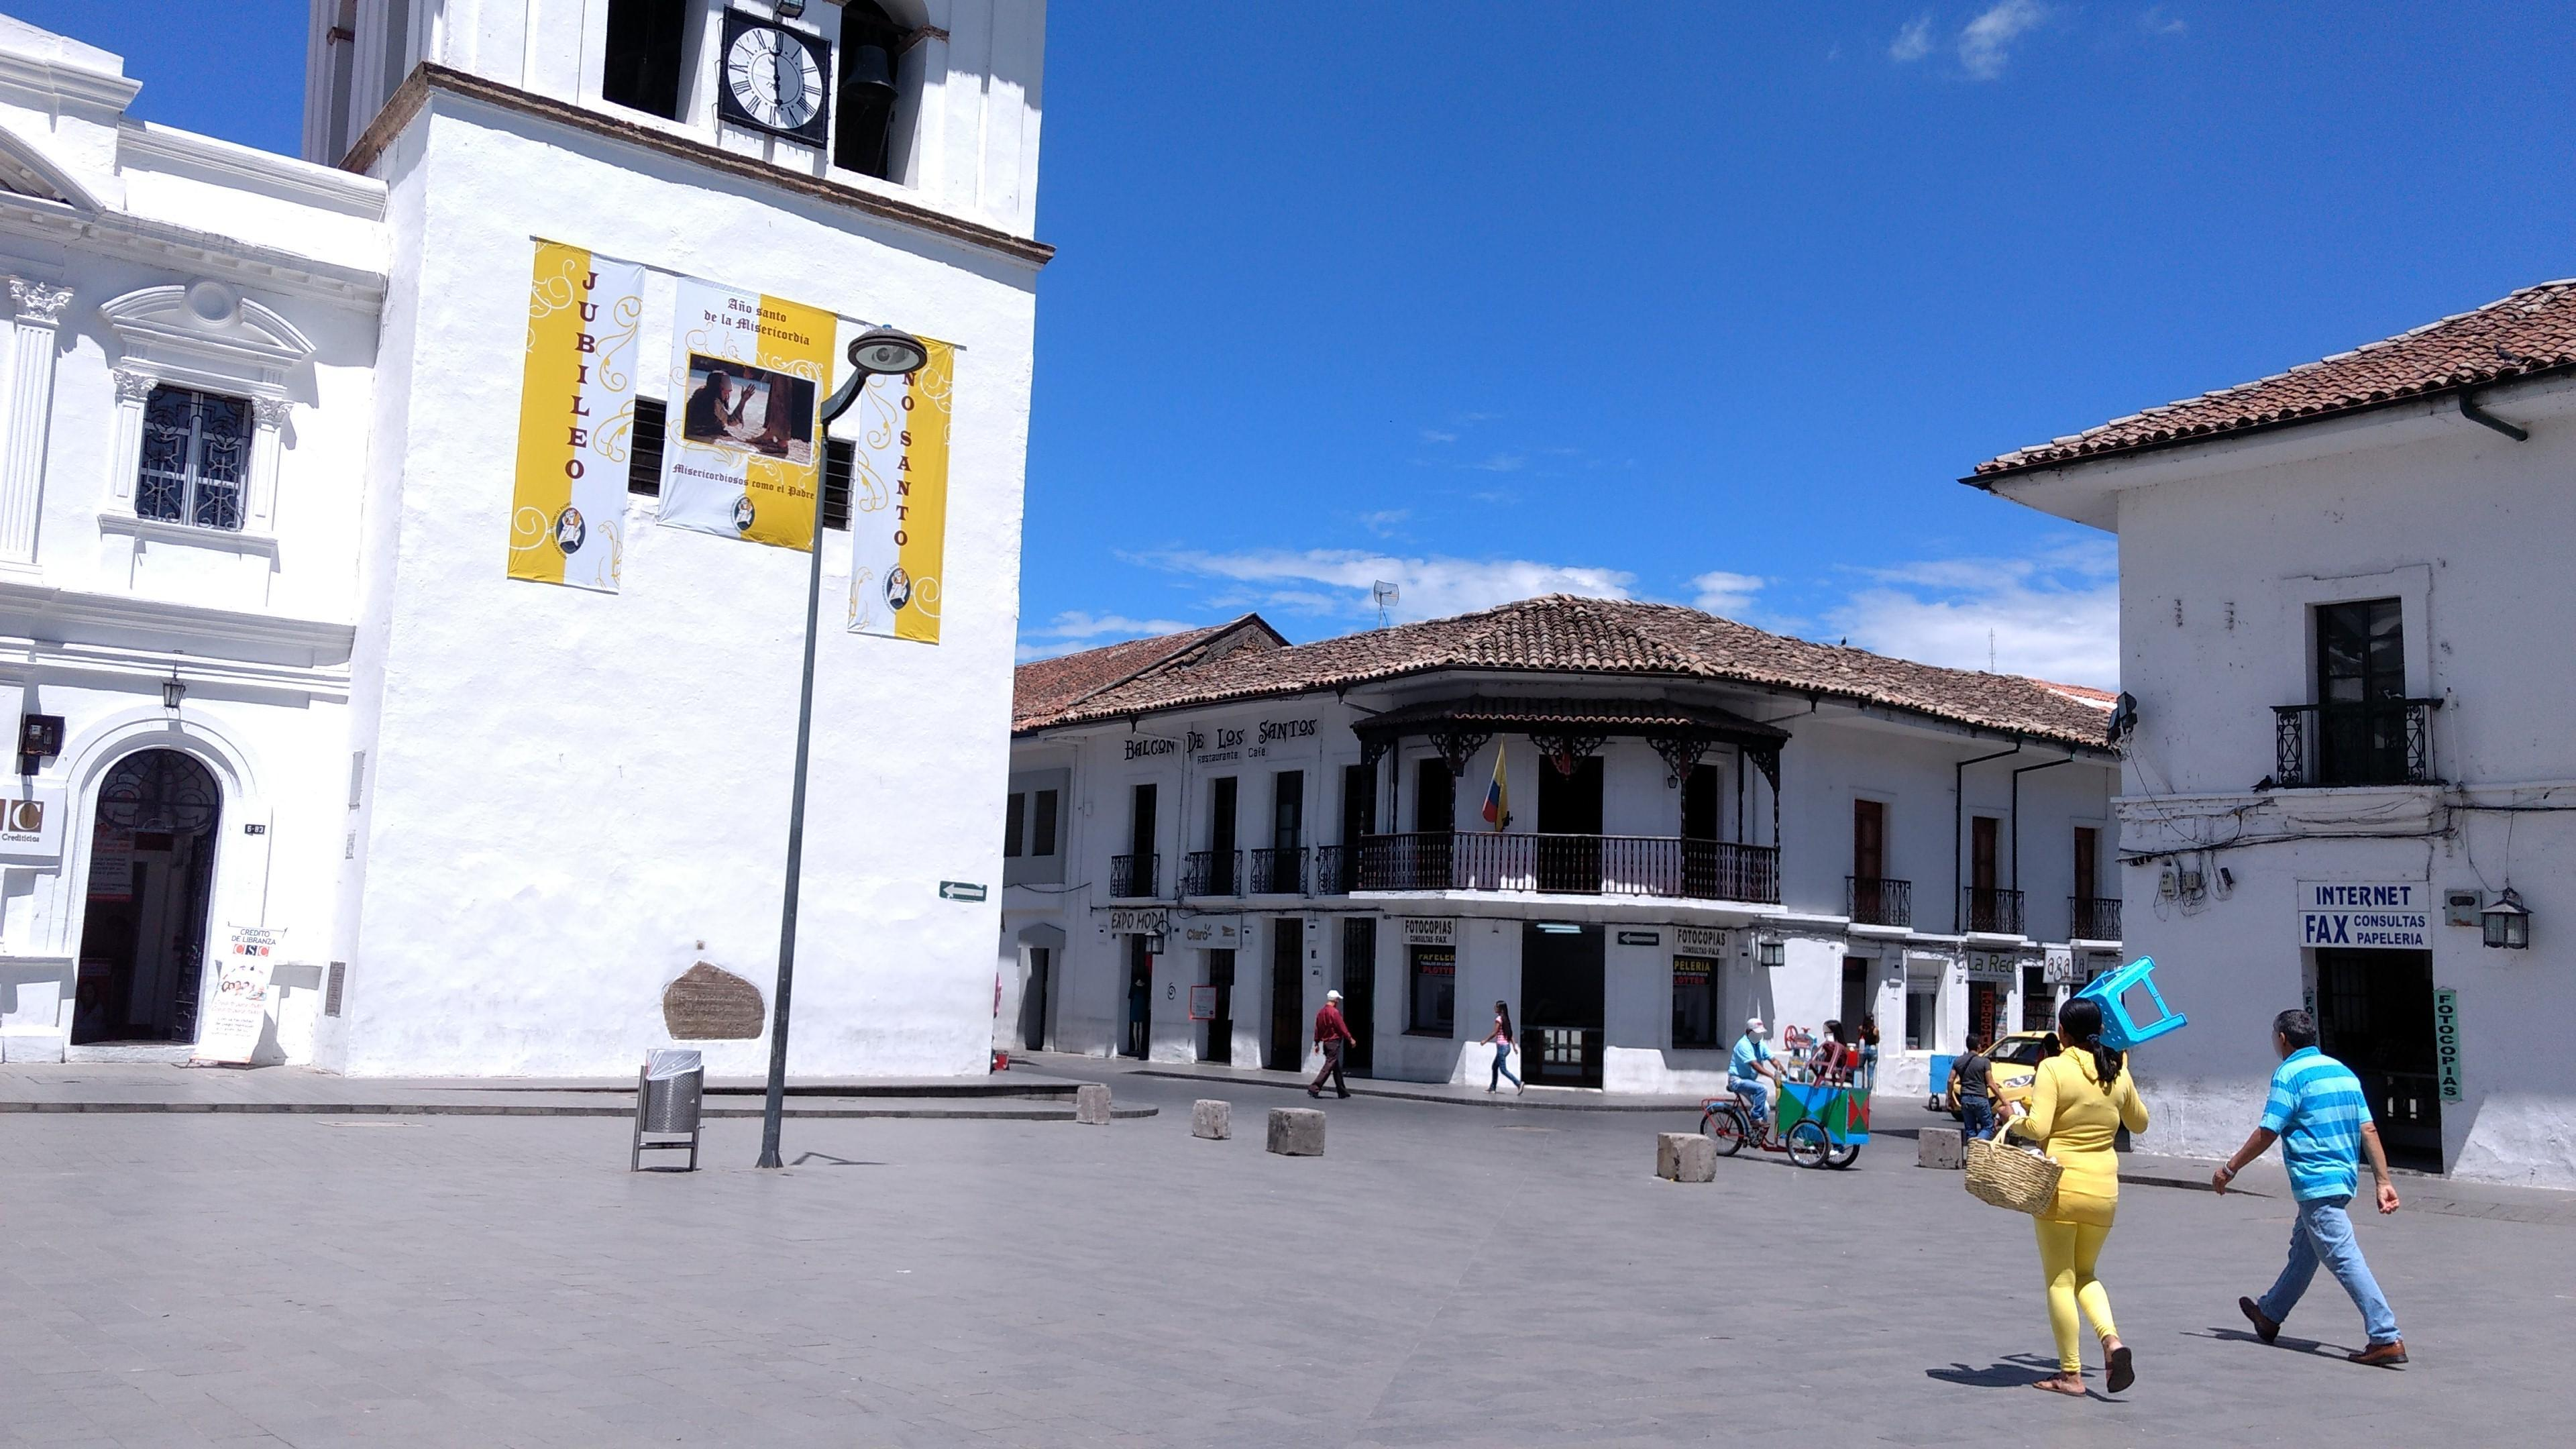vinyl banner: (502, 209, 649, 612), (663, 242, 846, 561), (853, 303, 966, 669)
